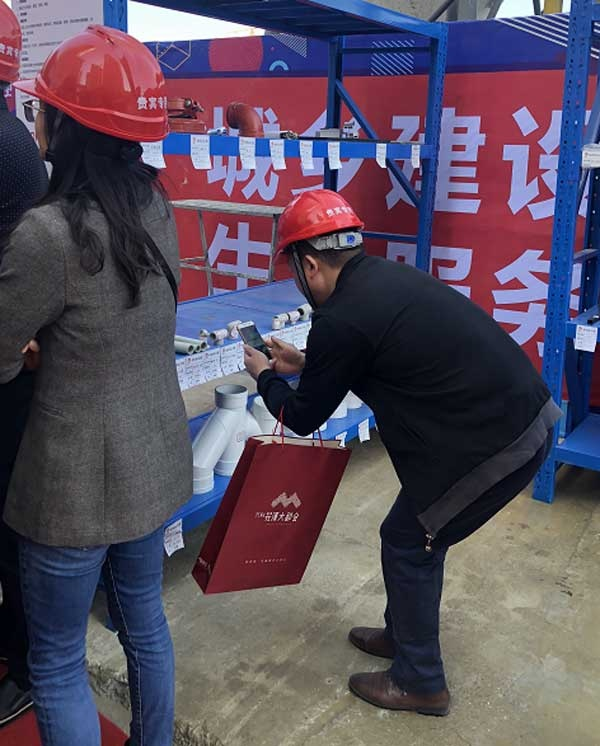red: (31, 21, 179, 180), (275, 184, 364, 301)
